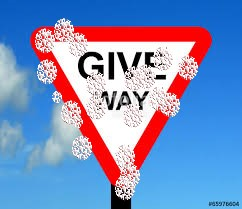giveway: (30, 24, 213, 190), (54, 65, 185, 156), (40, 29, 124, 156), (126, 26, 196, 162)
